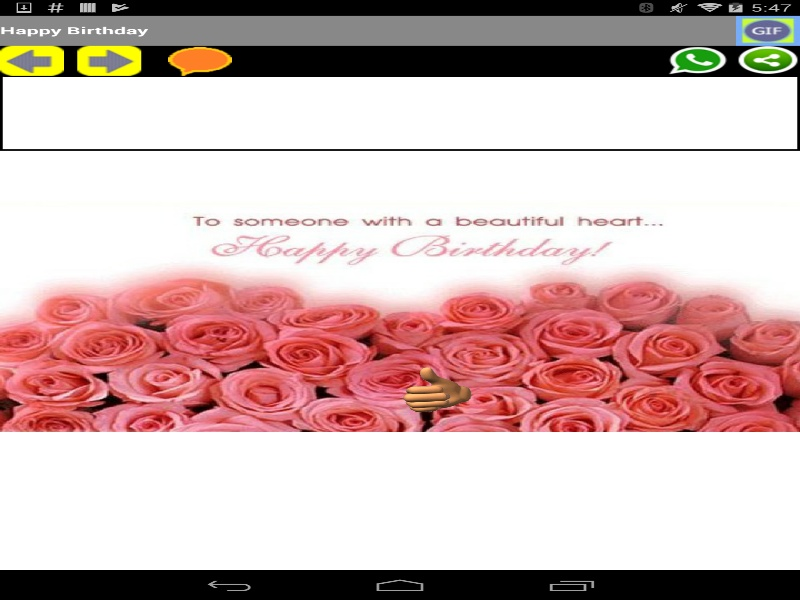Input: (0, 75, 800, 150)
